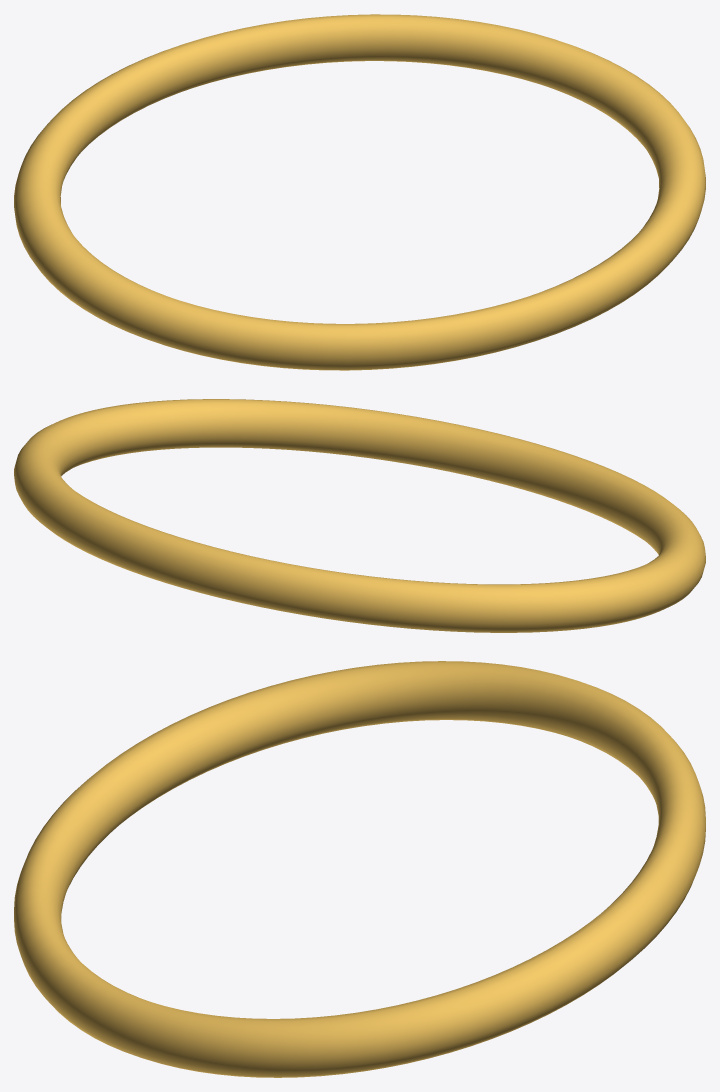
The model's file is 05-halo.glb.
3 views of the same model, one above another, from view 1: azimuth 30°, elevation 25°; view 2: azimuth 150°, elevation 25°; view 3: azimuth 270°, elevation 25° (orthographic). The views are drawn at different scales.
Parts seen in each view (by area): view 1: halo_ring; view 2: halo_ring; view 3: halo_ring.
Part boxes in pixels (x1,y1,x2,y2): halo_ring: [14, 14, 705, 370]; halo_ring: [14, 399, 705, 632]; halo_ring: [14, 661, 705, 1077].
Bounding box in the file's own units: 1.33 × 0.2469 × 1.05.
